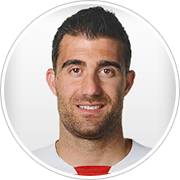smile: (72, 100, 107, 114)
